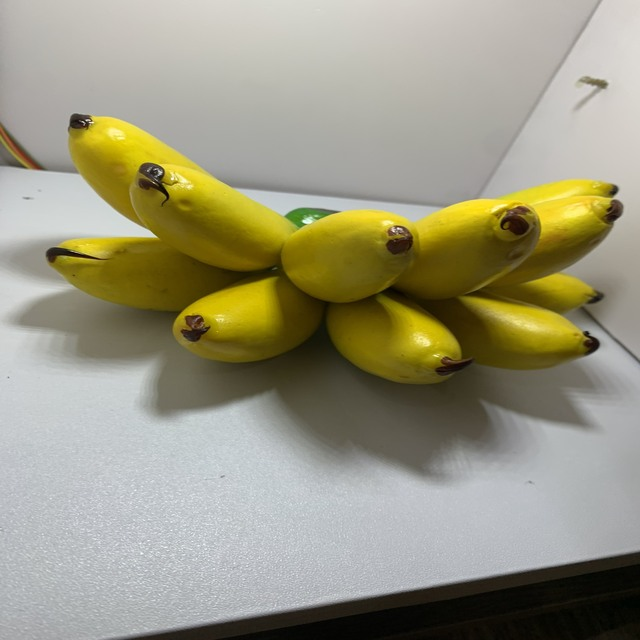Chuoi: (26, 103, 637, 415)
